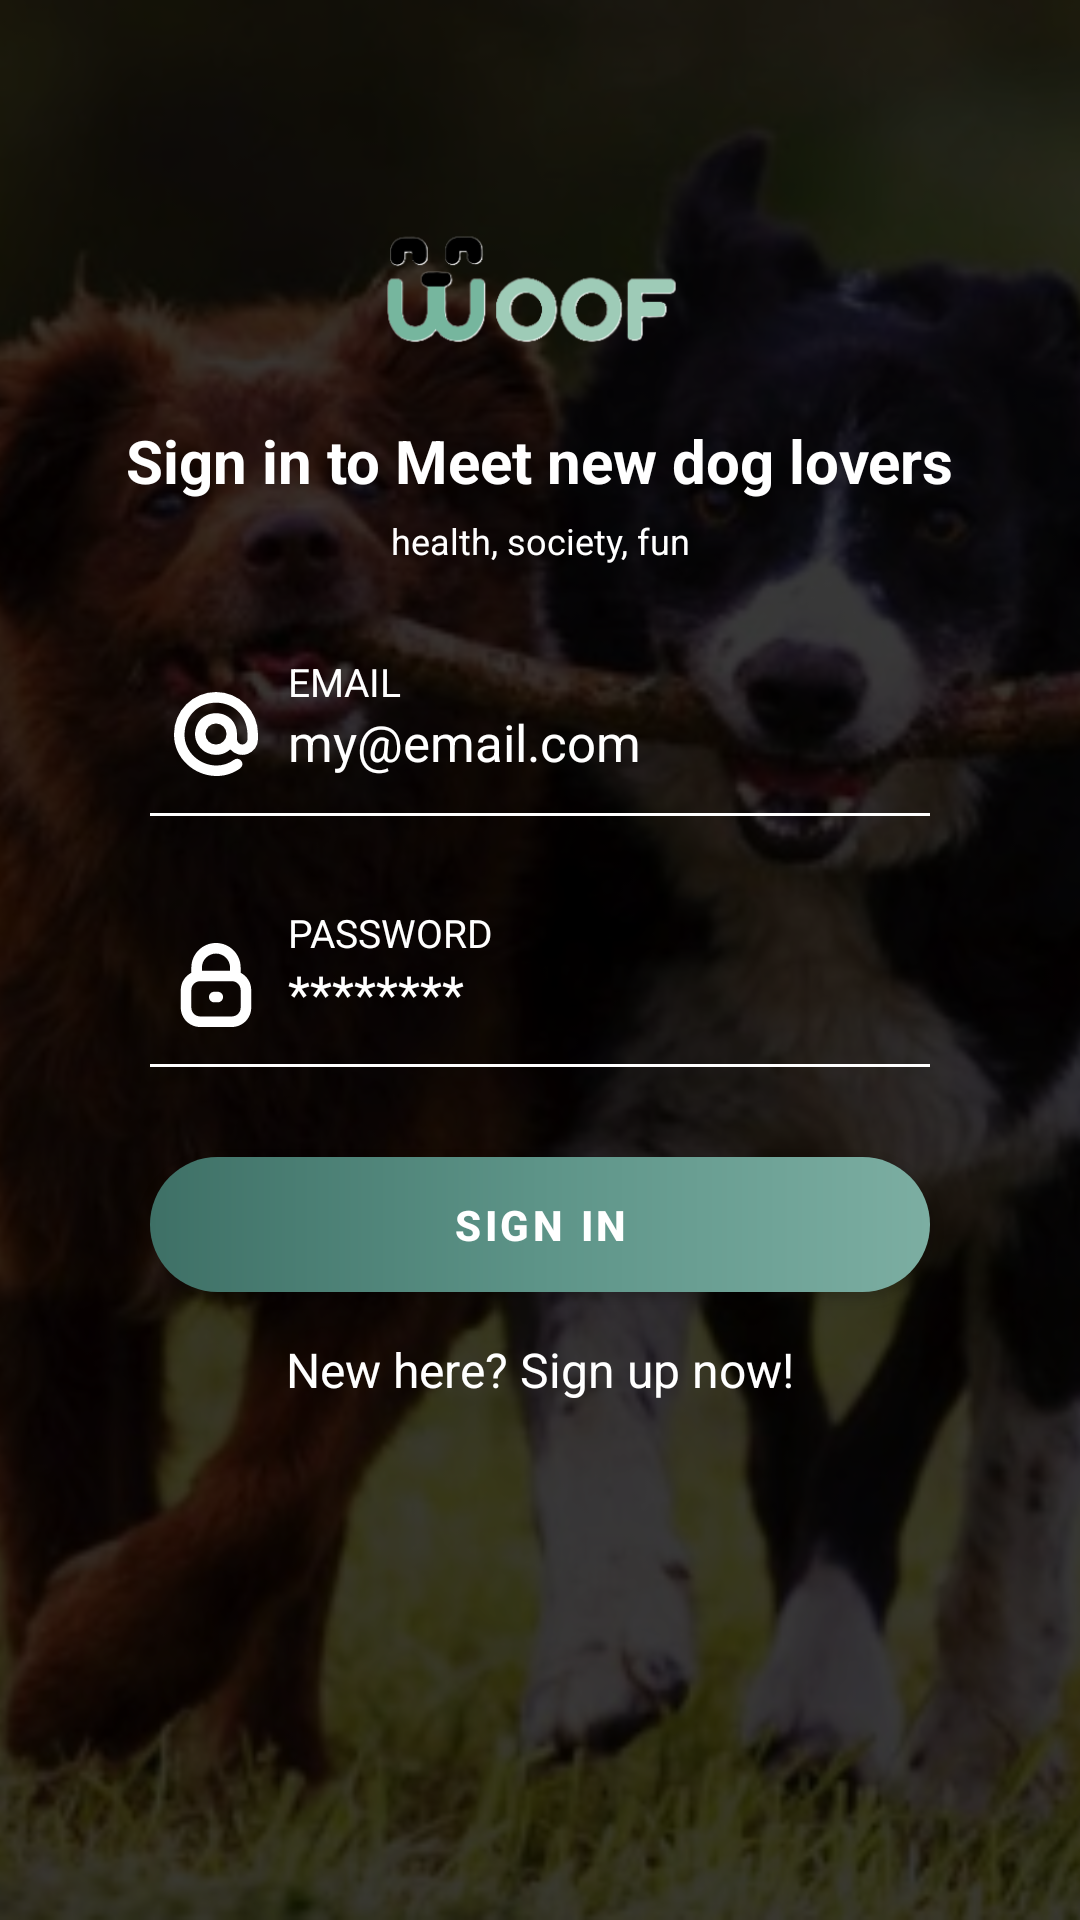

Screen size 1080px x 1920px. Icon name, then its box in pixels as (x1, y1, x2, y2):
lock: (180, 943, 252, 1027)
shtrodel: (174, 692, 258, 776)
